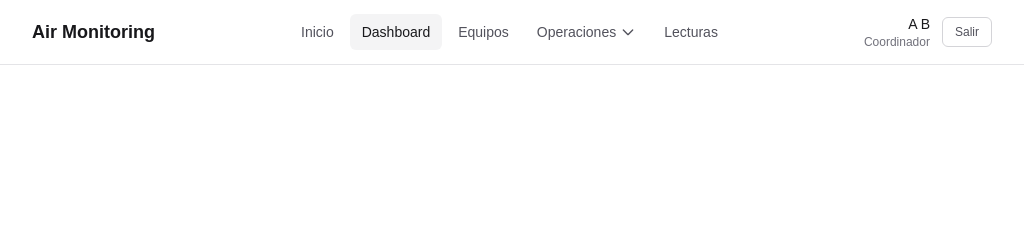
Test: Header — Operaciones dropdown open/close › closes the dropdown after selecting an item
Click the button "Operaciones": x=586, y=32 [525,14,648,50]
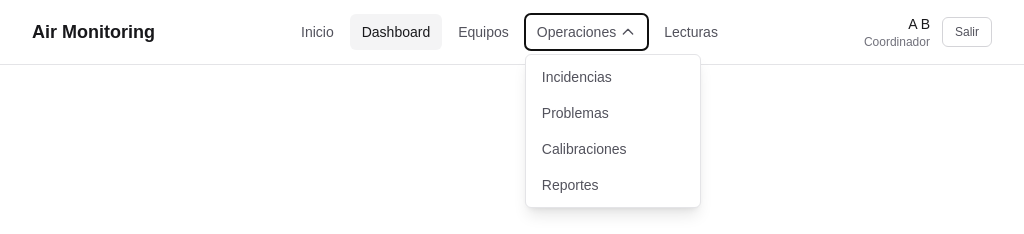
Click the link "Problemas": x=575, y=113 [542,105,609,121]
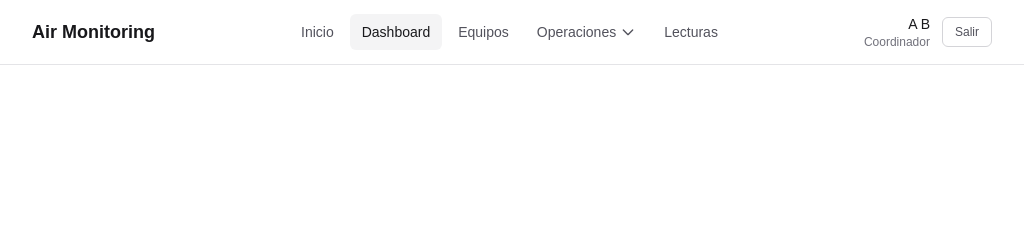
Result: the link "Incidencias" is gone
